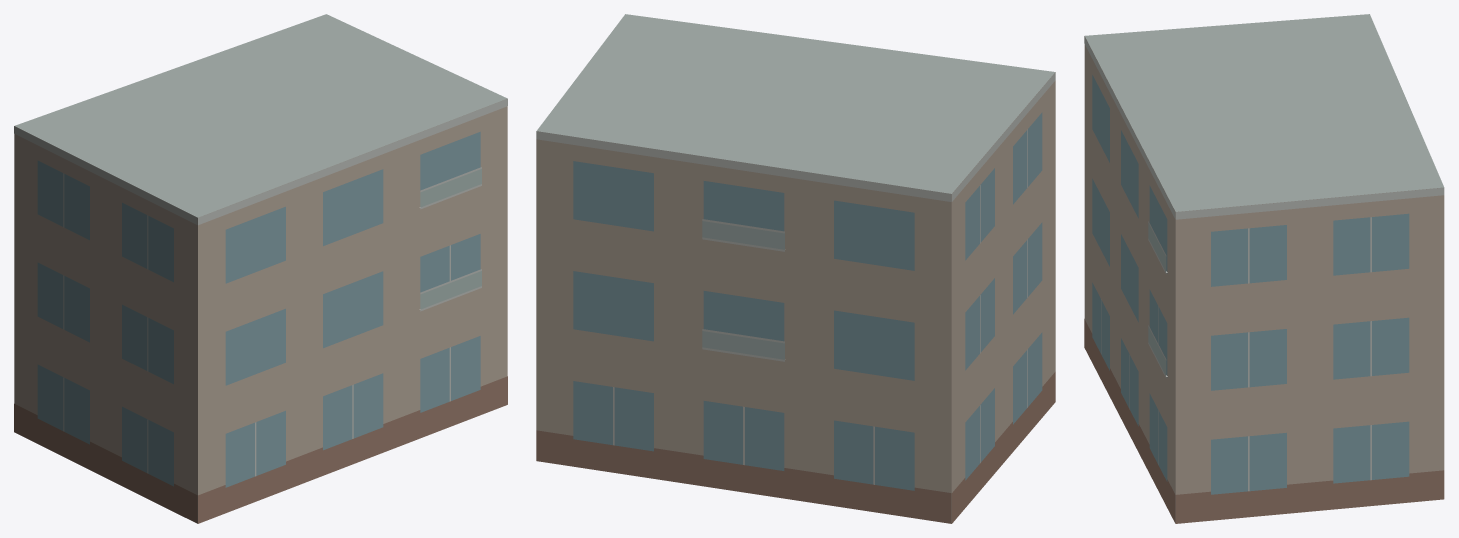
File: survey-upis-32638555.glb
3 renders of one model, left to right at view 1: azimuth 30°, elevation 25°; view 2: azimuth 150°, elevation 25°; view 3: azimuth 270°, elevation 25°, orthographic. The views are drawn at different scales.
Parts seen in each view (by area): view 1: survey-upis-32638555.tmp; view 2: survey-upis-32638555.tmp; view 3: survey-upis-32638555.tmp.
Part boxes in pixels (left/top/right/bottom): survey-upis-32638555.tmp: left=14, top=14, right=507, bottom=523; survey-upis-32638555.tmp: left=536, top=14, right=1055, bottom=523; survey-upis-32638555.tmp: left=1084, top=14, right=1444, bottom=523.
Bounding box in the file's own units: 13.35 × 9.8 × 10.26.
